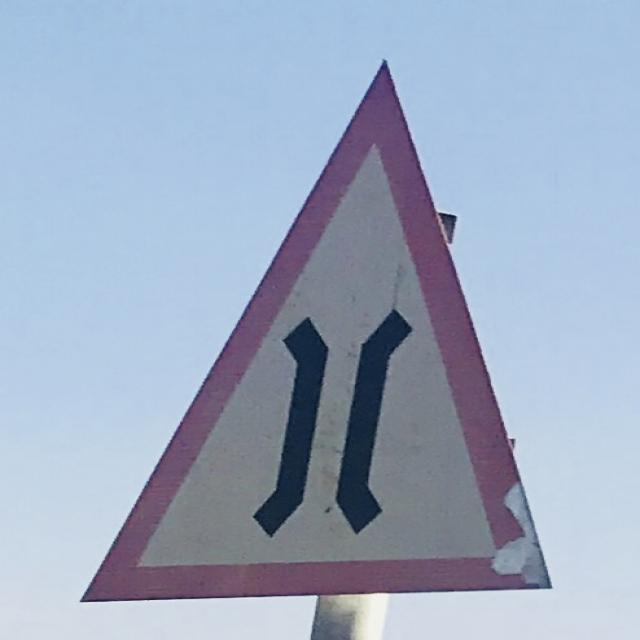narrow bridge ahead: (80, 61, 555, 599)
